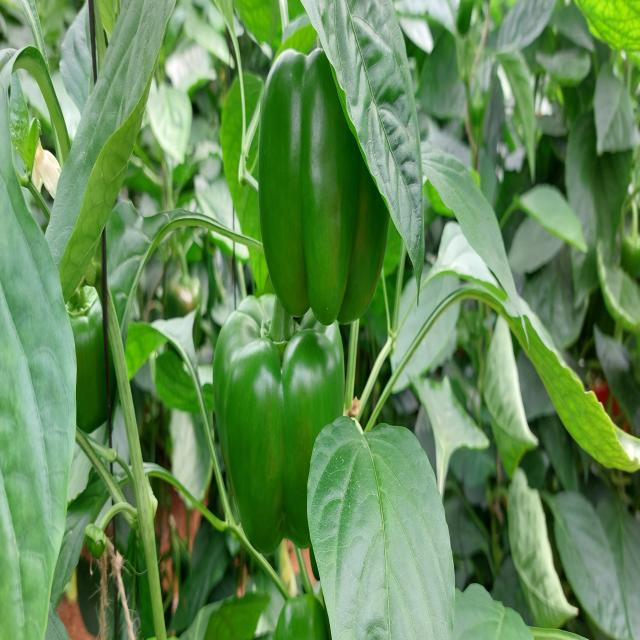Green--Not-ready-to-harvest: (258, 55, 395, 327), (218, 316, 361, 559), (65, 263, 125, 436)
